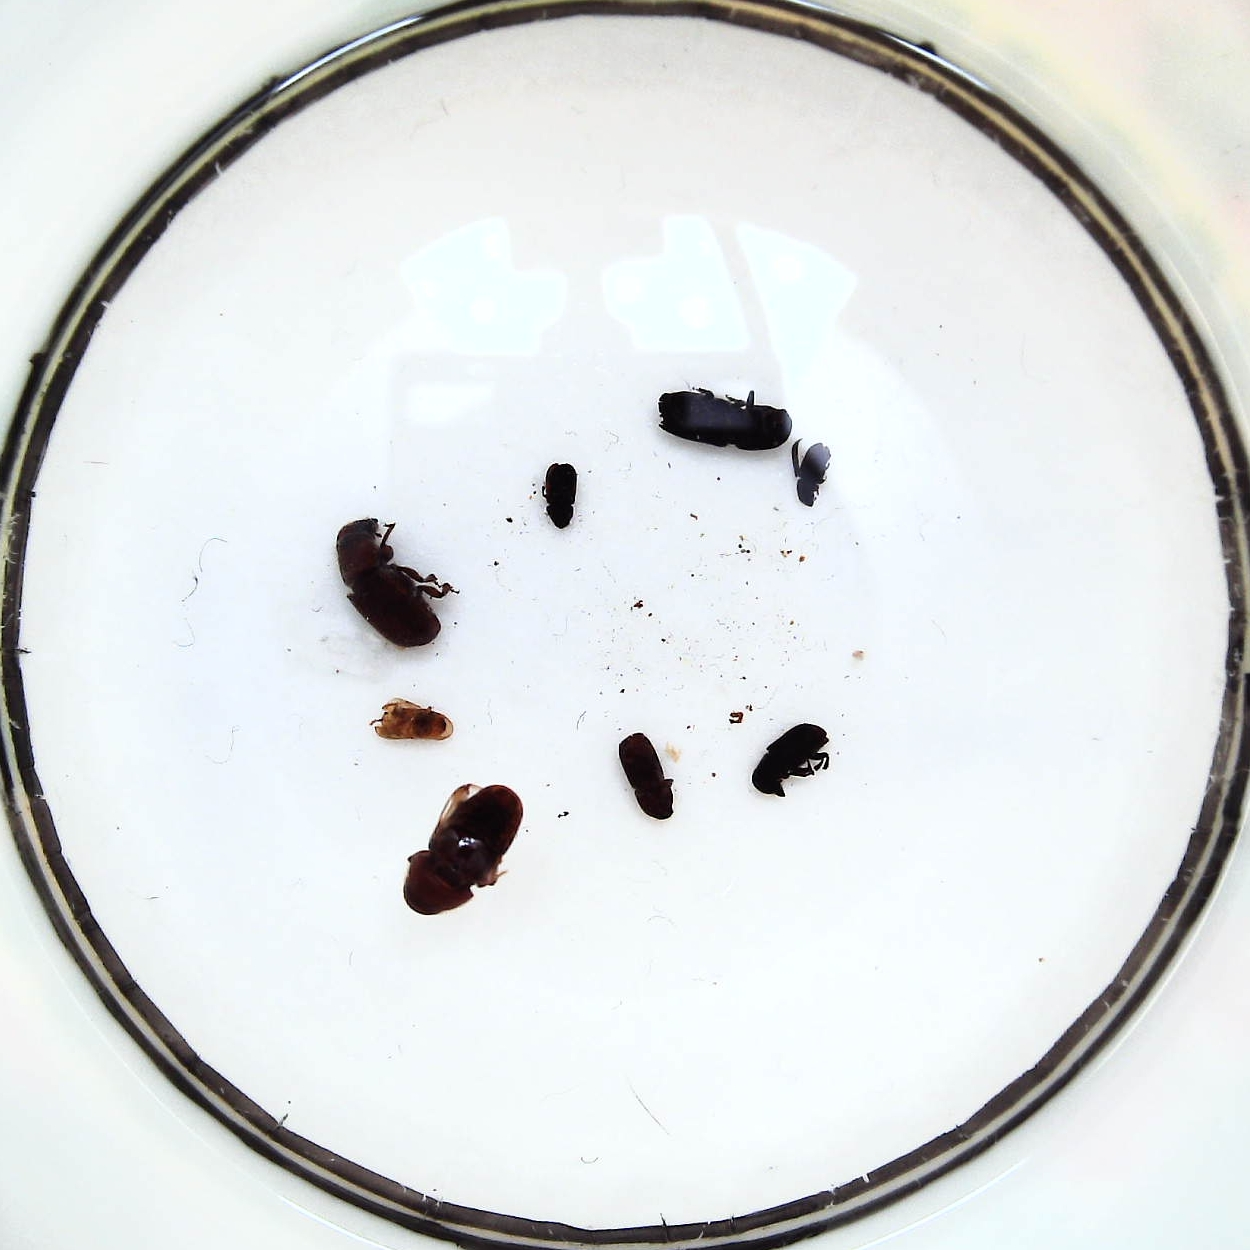Boerner: (658, 391, 792, 452)
Leconte: (402, 784, 522, 913), (335, 519, 442, 648)
acuminatus: (797, 442, 831, 506), (545, 462, 576, 528)
armandi: (752, 723, 829, 797)
coleoptera: (374, 699, 453, 739)
linnaeus: (618, 731, 674, 818)
